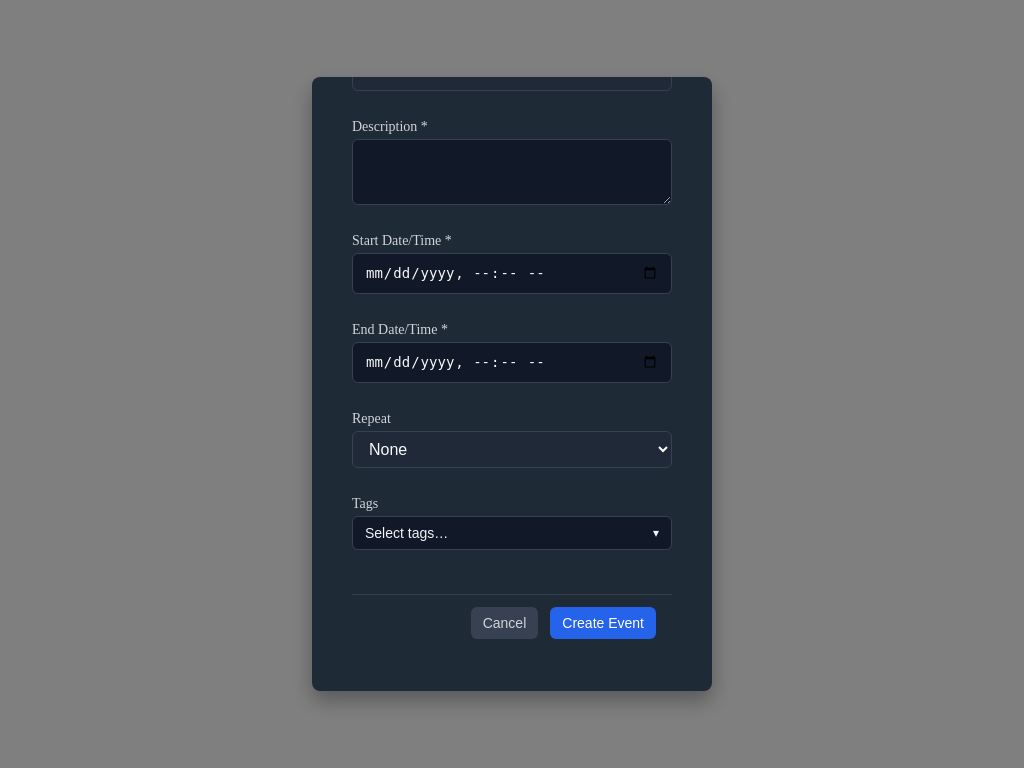
Test: EventModal › Validation Errors › shows error for empty title field
(page scrolled)
Click the button "Create Event" at point(603, 623), box x1=550 y1=607 x2=656 y2=639
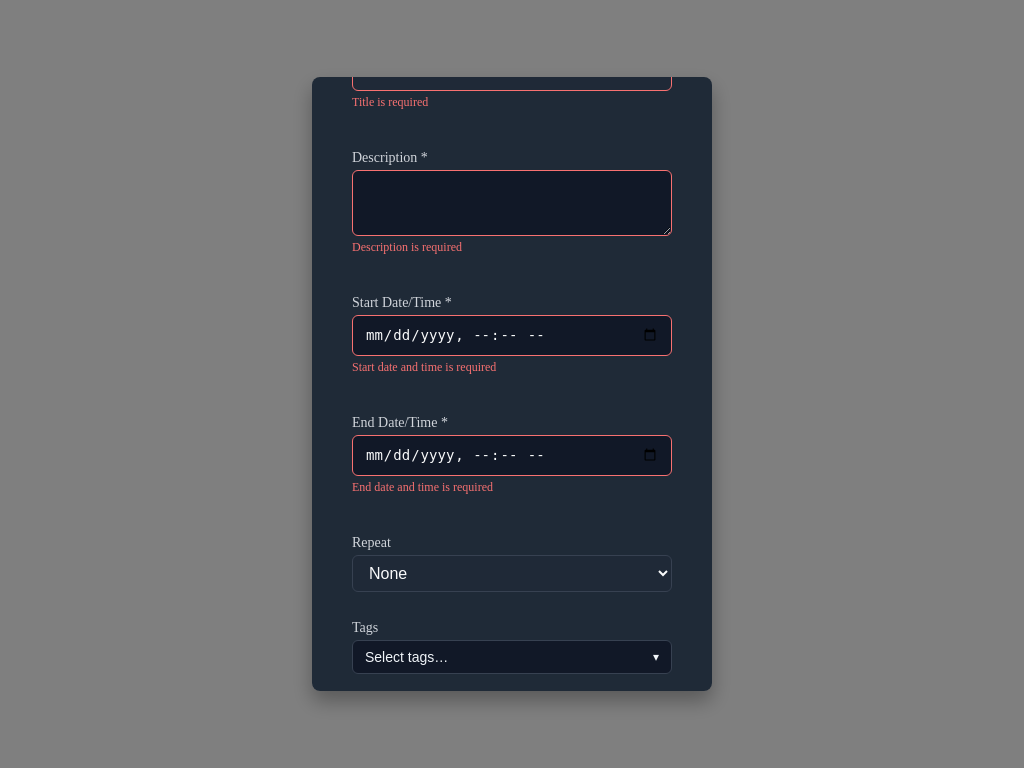
Result: the text "Title is required" is shown at x1=352 y1=95 x2=428 y2=109
